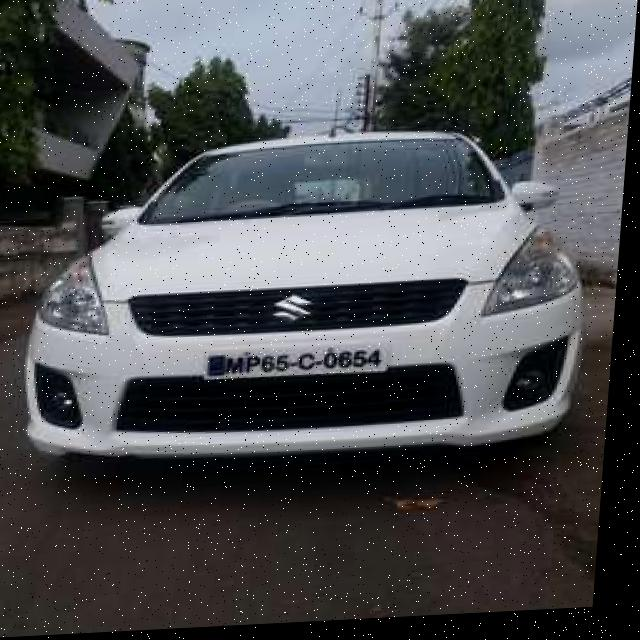plate: (208, 344, 397, 384)
